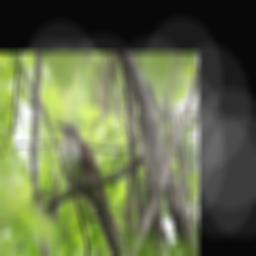Cuckoo: (53, 119, 127, 256)
